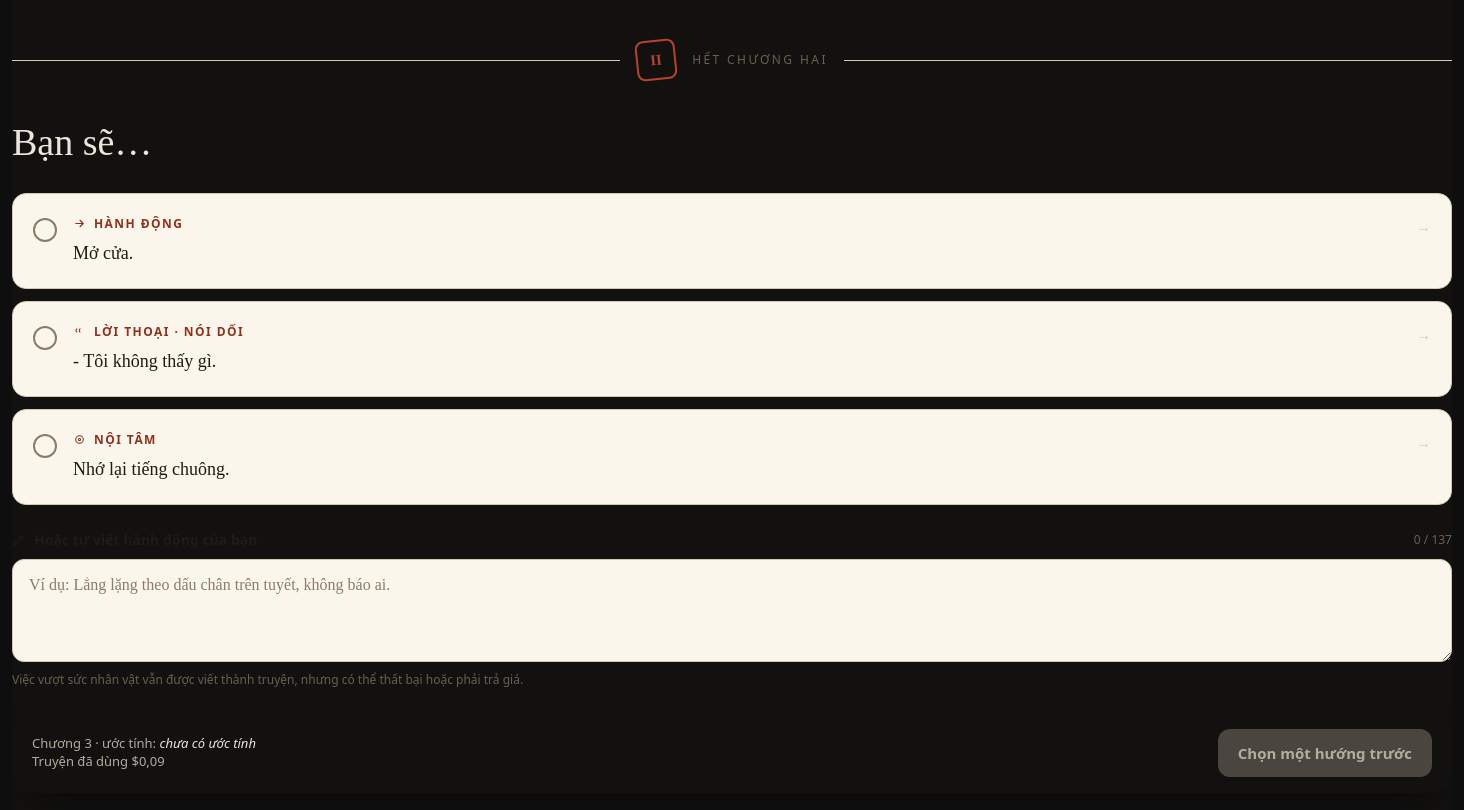
Test: lựa chọn cuối chương › không lựa chọn nào được chọn sẵn; nút gửi tắt tới khi chọn
Expected: the button "Chọn một hướng trước" is disabled, top-left (1218, 729), bottom-right (1432, 777)
Click the radio button labelled "Lời thoại · nói dối - Tôi không thấy gì. →" at (169, 331), box top-left (12, 301), bottom-right (1452, 397)
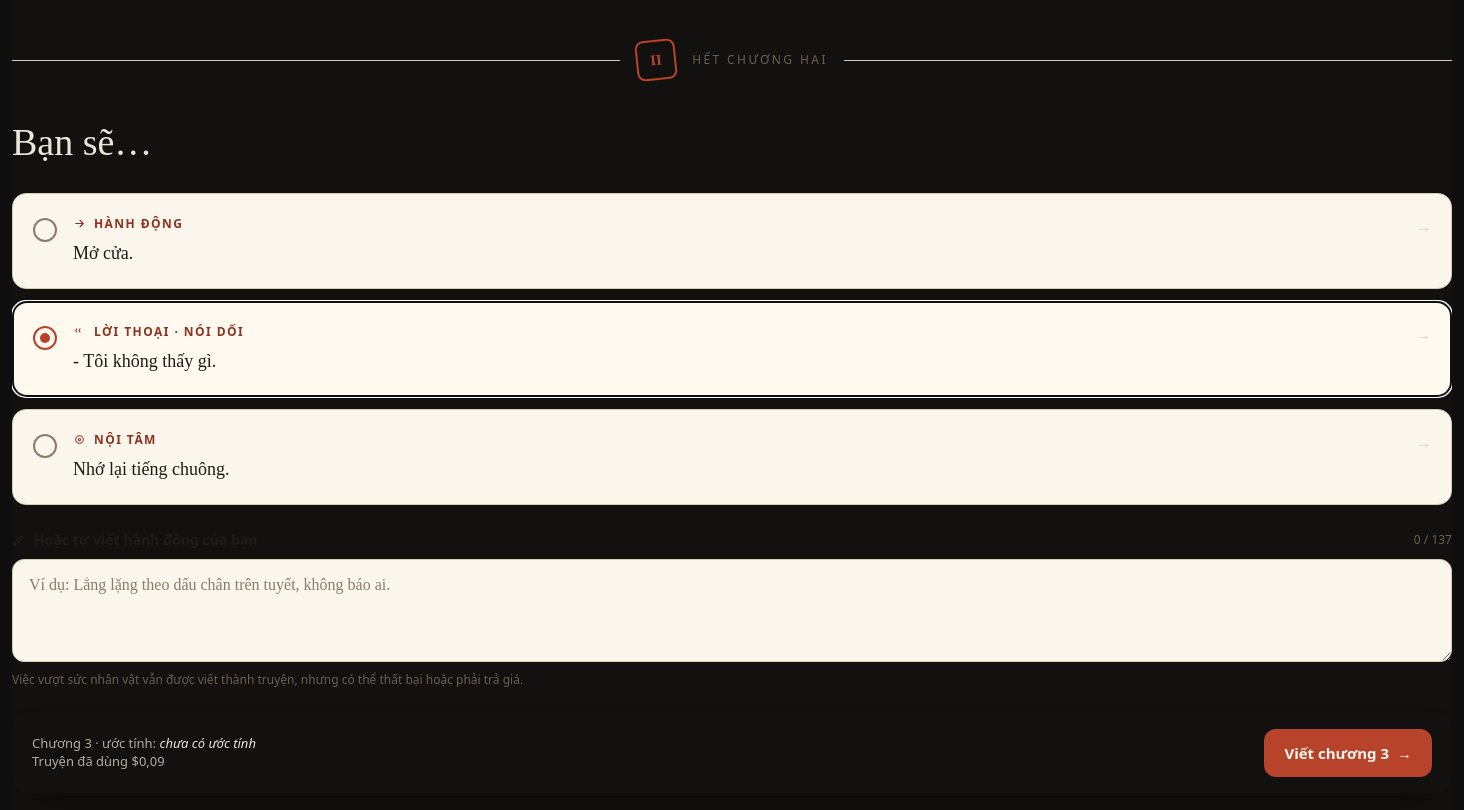
Result: the button "Viết chương 3 →" is enabled at top-left (1264, 729), bottom-right (1432, 777)
